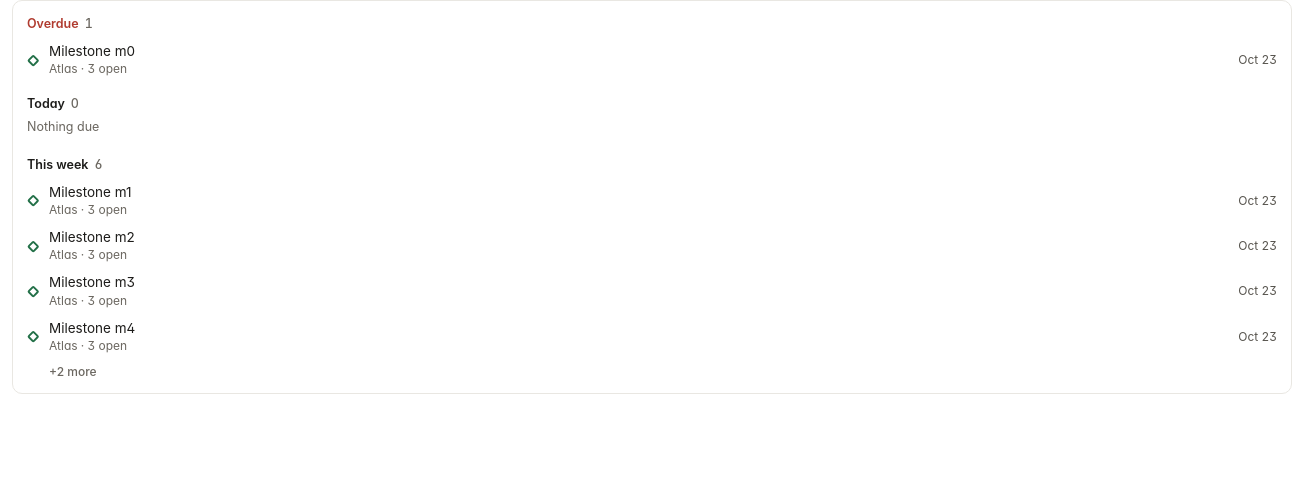
Test case: DeadlineList › "+N more" reveals the rest and moves focus to the first new item
The width and height of the screenshot is (1304, 501).
Check: the link "Milestone m5" is not shown
Click the button "+2 more". click: (73, 372)
box: [13,359,1291,387]
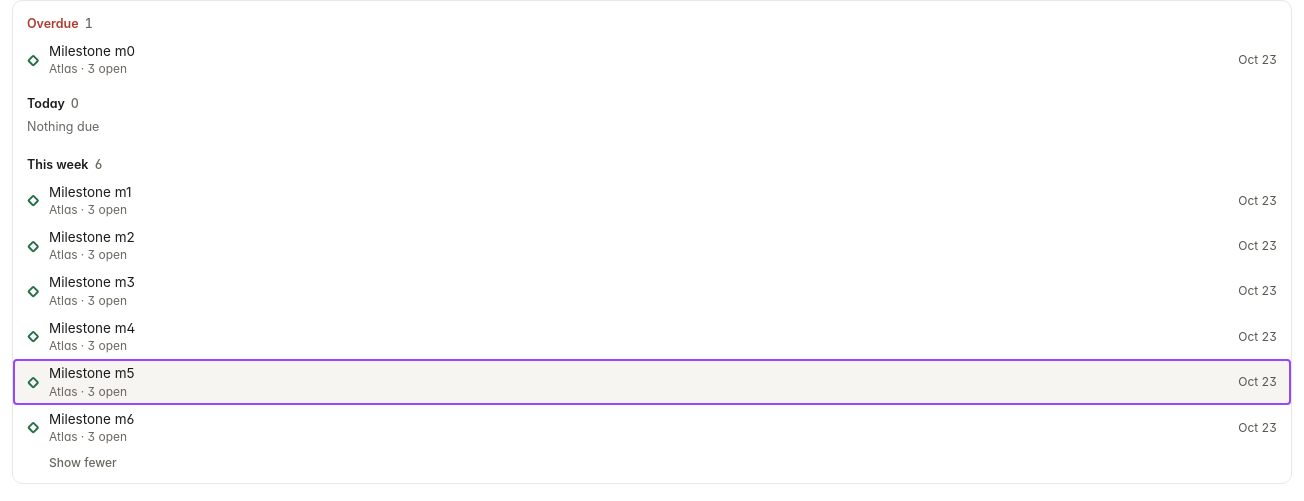
Check: the button named "+2 more" is expanded
Click the button "Show fewer". click: (83, 463)
box: [13,450,1291,478]
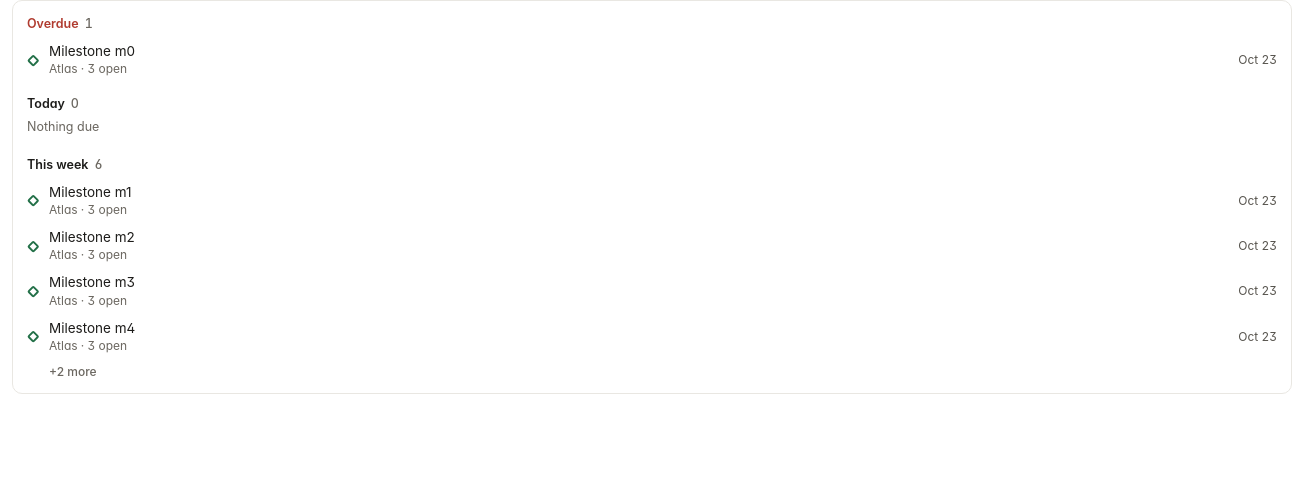
Check: the link "Milestone m5" is gone
